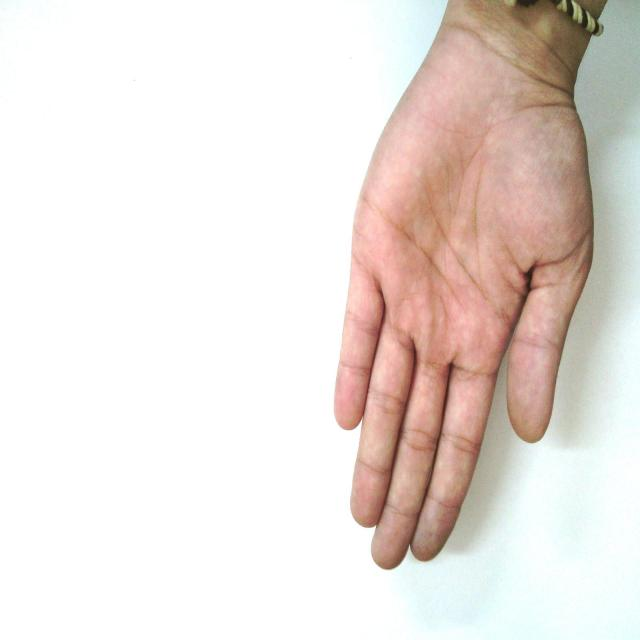others: (266, 0, 634, 578)
